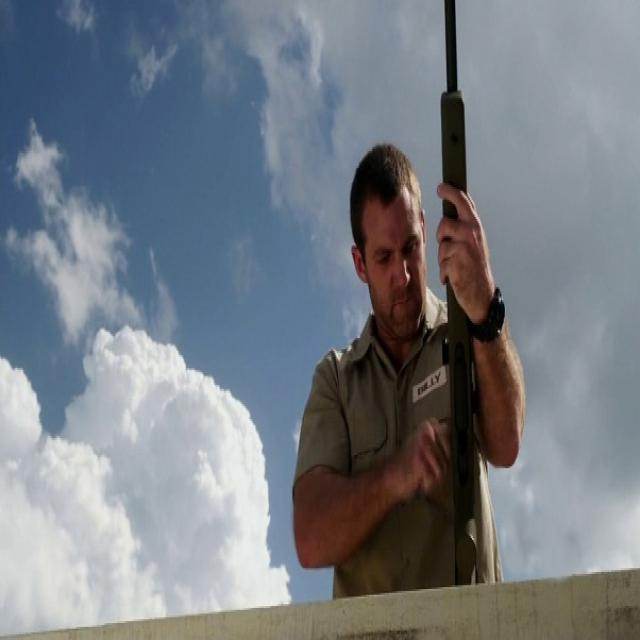rifle: (433, 1, 501, 583)
